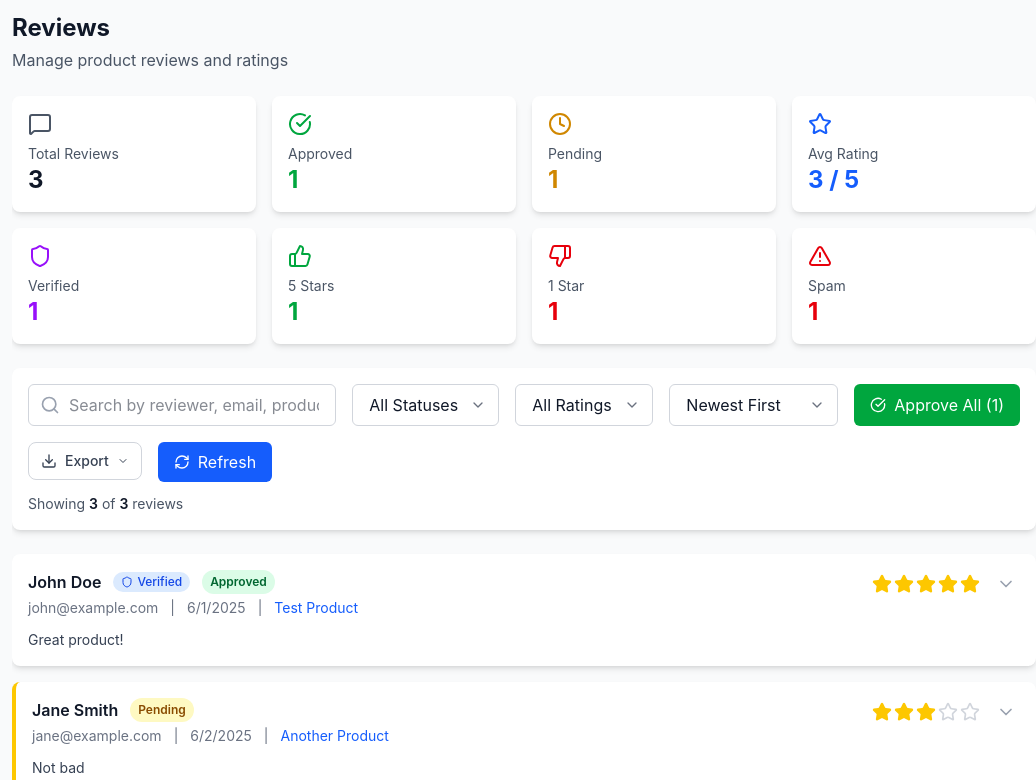
Test: ReviewsPage › should filter reviews by search term
This screenshot has width=1036, height=780.
Expected: the text "John Doe" is shown, [28,570,101,594]
Type "John" into the field with placeholder "Search by reviewer, email, product, or content...". click: x=182, y=405
box: [28,384,336,426]
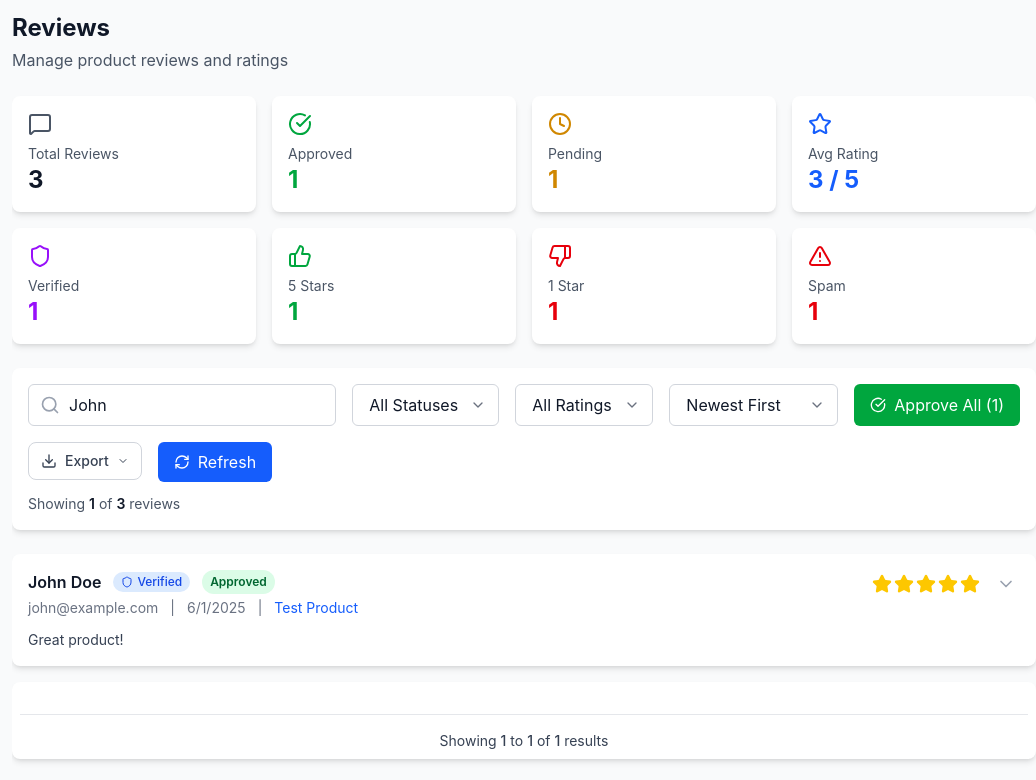
Expected: the text "John Doe" is shown, [28,570,101,594]
Expected: the text "Jane Smith" is gone
